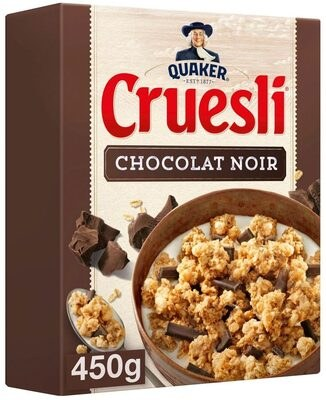Cruesli Chocolat noir: (16, 20, 310, 380)
